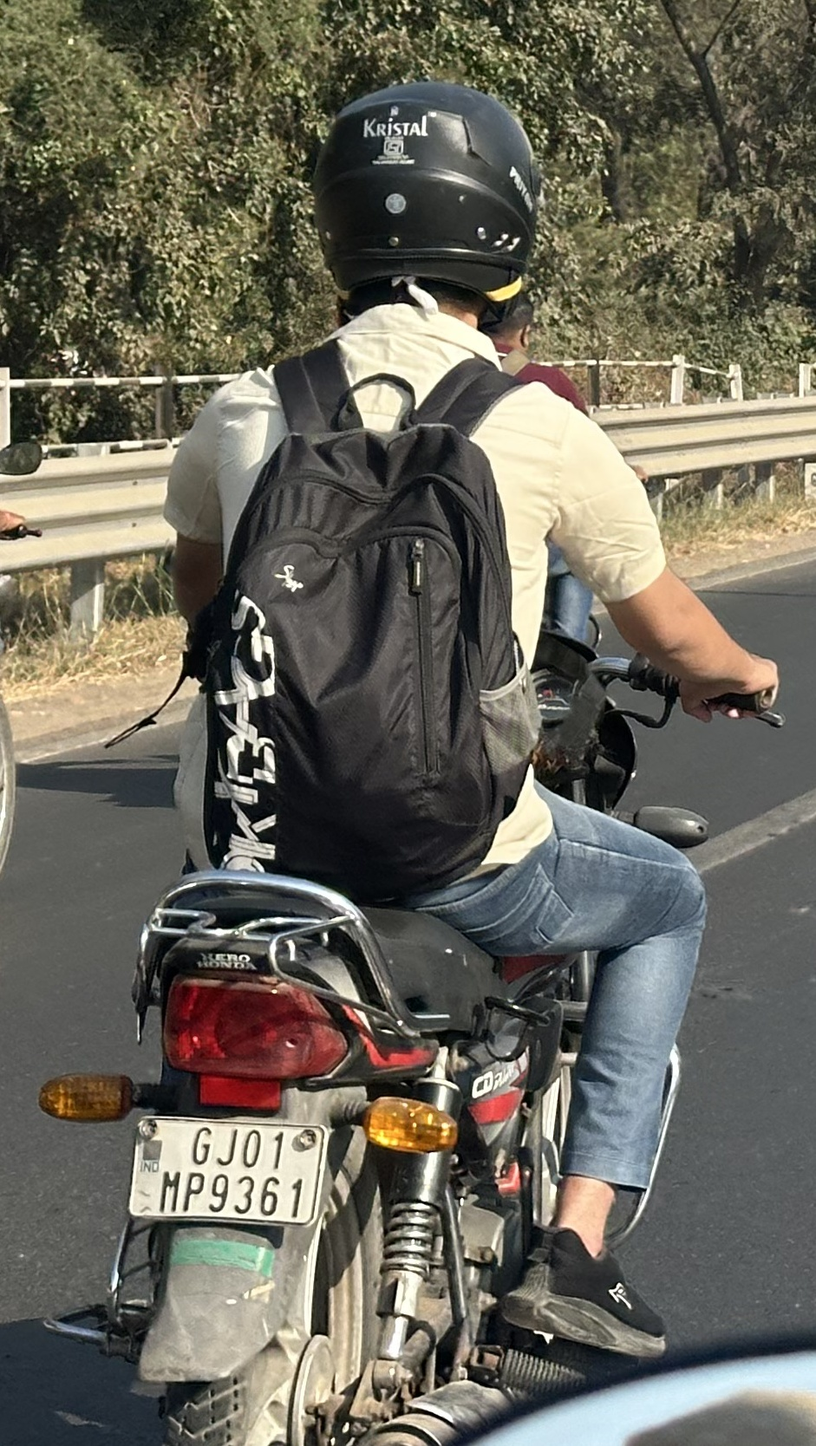BikeWithRider: (25, 66, 794, 1446)
Helmet: (299, 66, 559, 343)
